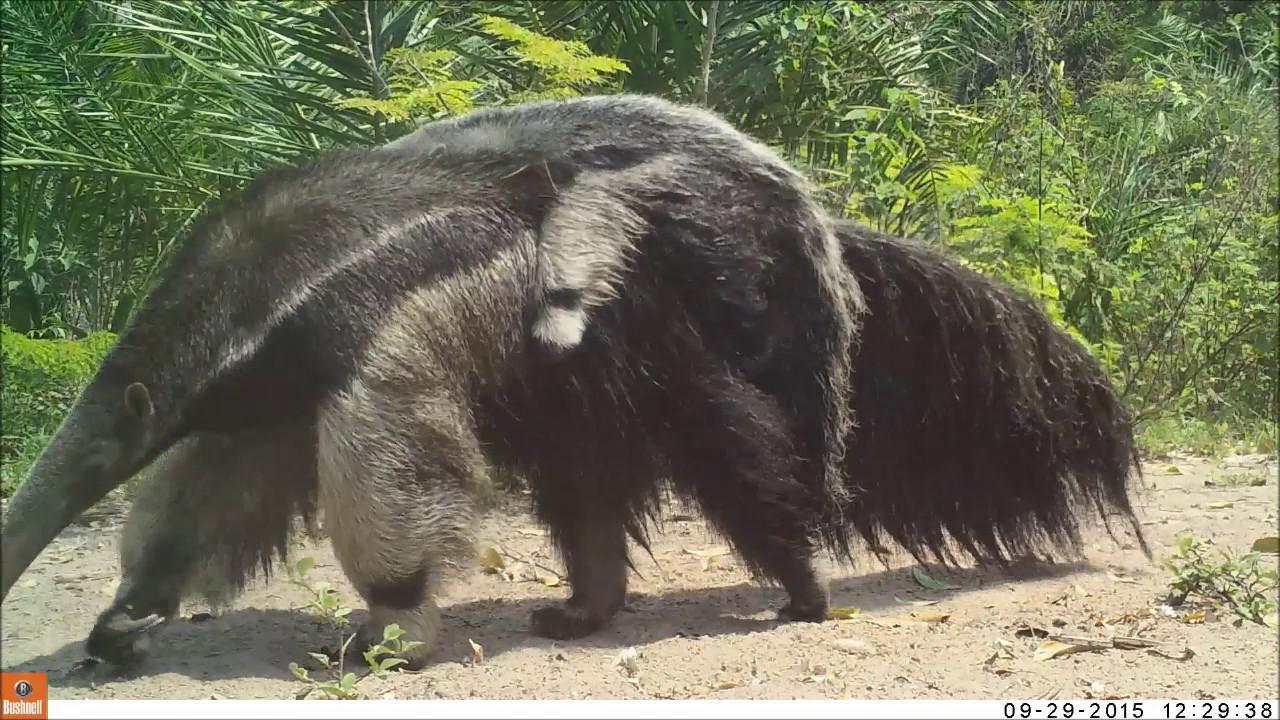TamanduaBandeira: (9, 155, 1149, 680), (367, 95, 874, 491)
